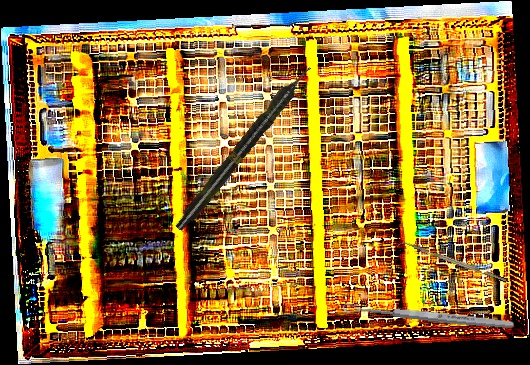Chopper: (396, 237, 508, 289)
Handpiece: (171, 61, 317, 235)
Surgical Spoon: (342, 301, 515, 331)
